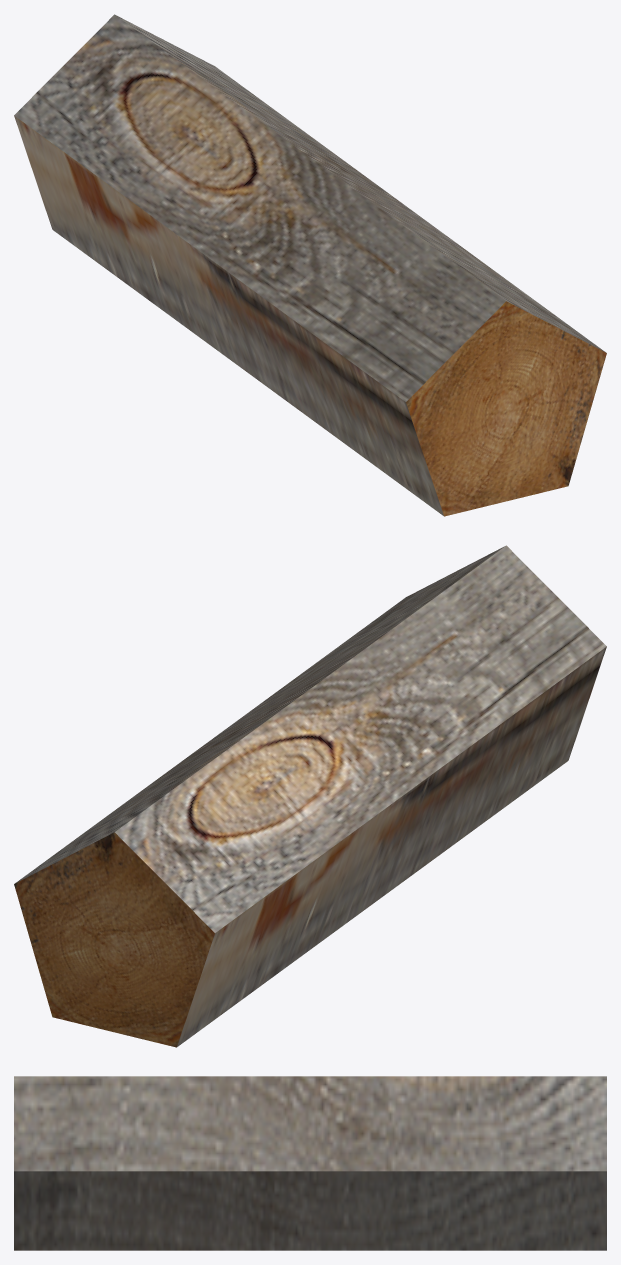
File: Log1.fbx
3 views of the same model, one above another, from view 1: azimuth 30°, elevation 25°; view 2: azimuth 150°, elevation 25°; view 3: azimuth 270°, elevation 25° (orthographic). The views are drawn at different scales.
Visible parts, largest first — view 1: Log1; view 2: Log1; view 3: Log1.
Part boxes in pixels (left/top/right/bottom): Log1: left=14, top=14, right=606, bottom=516; Log1: left=14, top=545, right=606, bottom=1047; Log1: left=14, top=1076, right=606, bottom=1250.
Bounding box in the file's own units: 18.2 × 17.31 × 61.41.
